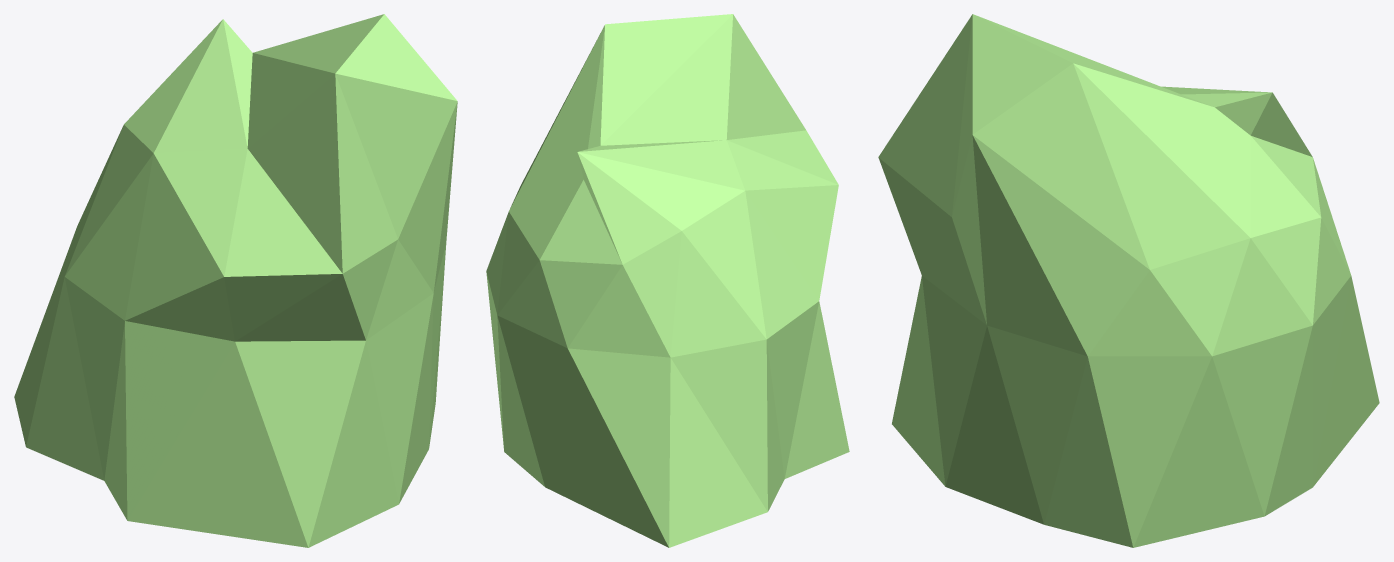
Rendered from Nest.glb.
3 views of the same model, side by side, from view 1: azimuth 30°, elevation 25°; view 2: azimuth 150°, elevation 25°; view 3: azimuth 270°, elevation 25° (orthographic). The views are drawn at different scales.
Parts seen in each view (by area): view 1: Icosphere; view 2: Icosphere; view 3: Icosphere.
Boxes of the visible parts, <box> form: Icosphere: <box>14,14,457,547</box>; Icosphere: <box>486,14,849,547</box>; Icosphere: <box>878,14,1379,547</box>.
Size of the model in its own units: 2.09 by 2.47 by 2.49.
